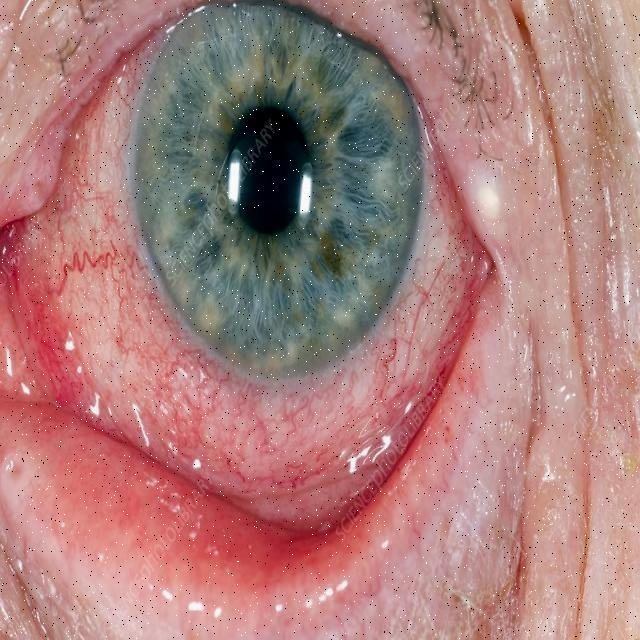Conjunctivitis: (0, 84, 473, 444)
